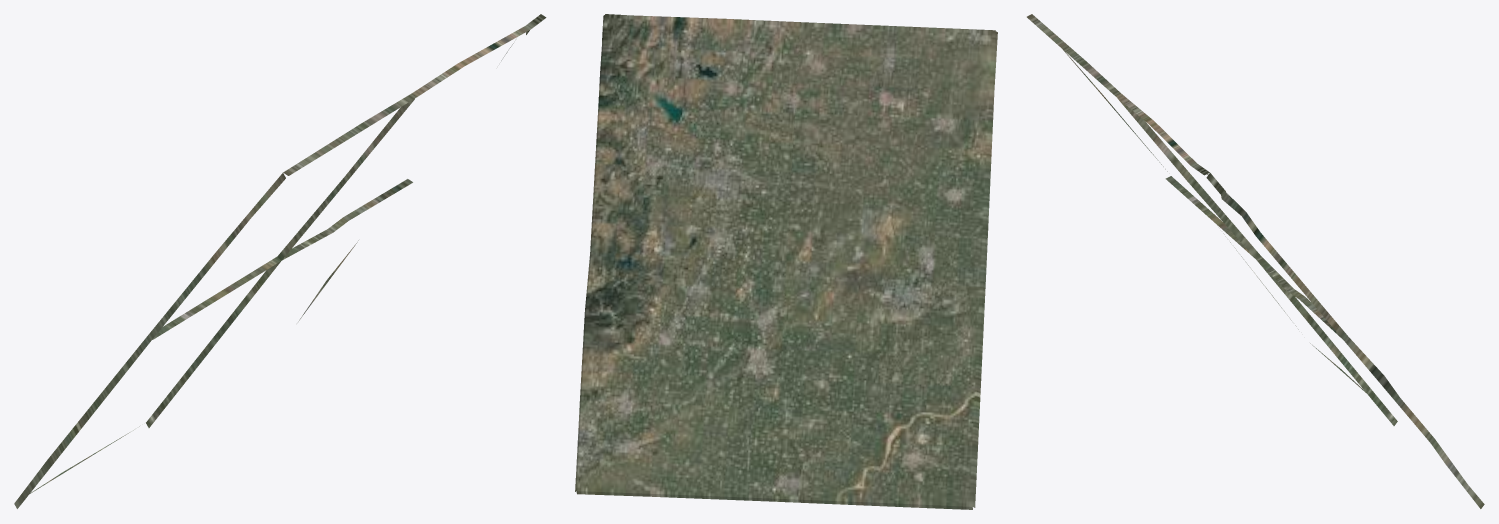
The picture shows the model from 3 angles, left to right: view 1: azimuth 30°, elevation 25°; view 2: azimuth 150°, elevation 25°; view 3: azimuth 270°, elevation 25°; orthographic projection. The views are drawn at different scales.
Size of the model in its own units: 155496 by 129497 by 138343.
1 material, 1 textured.
